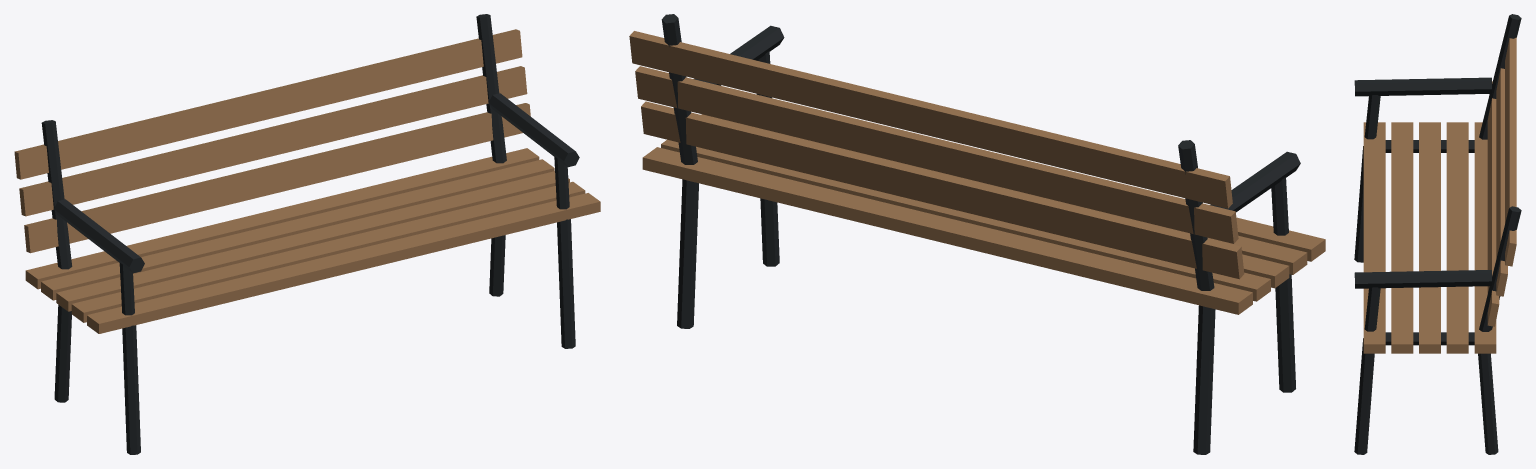
The model's file is bench.glb.
3 views of the same model, side by side, from view 1: azimuth 30°, elevation 25°; view 2: azimuth 150°, elevation 25°; view 3: azimuth 270°, elevation 25° (orthographic). The views are drawn at different scales.
Visible parts, largest first — view 1: bench; view 2: bench; view 3: bench.
Boxes of the visible parts, x1=… form: bench: x1=14, y1=14, x2=600, y2=454; bench: x1=629, y1=14, x2=1325, y2=454; bench: x1=1354, y1=14, x2=1521, y2=454.
Size of the model in its own units: 1.8 by 0.9264 by 0.5734.
